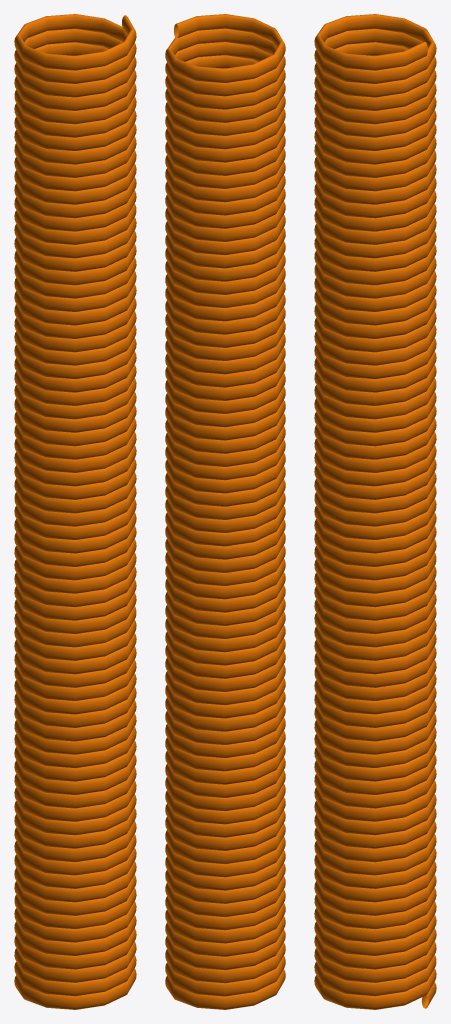
File: CoilC.fbx
3 renders of one model, left to right at view 1: azimuth 30°, elevation 25°; view 2: azimuth 150°, elevation 25°; view 3: azimuth 330°, elevation 25°, orthographic.
Parts seen in each view (by area): view 1: CoilC; view 2: CoilC; view 3: CoilC.
Boxes of the visible parts, box(x1,y1,x2,y2) form: CoilC: box(14, 14, 136, 1009); CoilC: box(165, 14, 285, 1009); CoilC: box(314, 14, 436, 1009).
Size of the model in its own units: 94.52 by 825 by 94.52.
